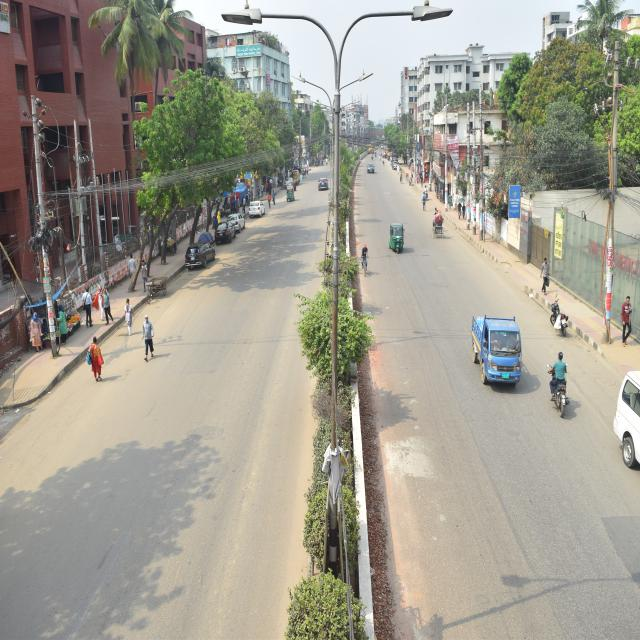car: (182, 236, 219, 277), (223, 210, 250, 238), (213, 218, 237, 244), (247, 197, 268, 218), (316, 175, 332, 192), (365, 160, 377, 178)
microbus: (609, 350, 640, 475)
motorbike: (541, 362, 578, 420), (546, 302, 568, 335)
pickup-van: (469, 312, 529, 392)
